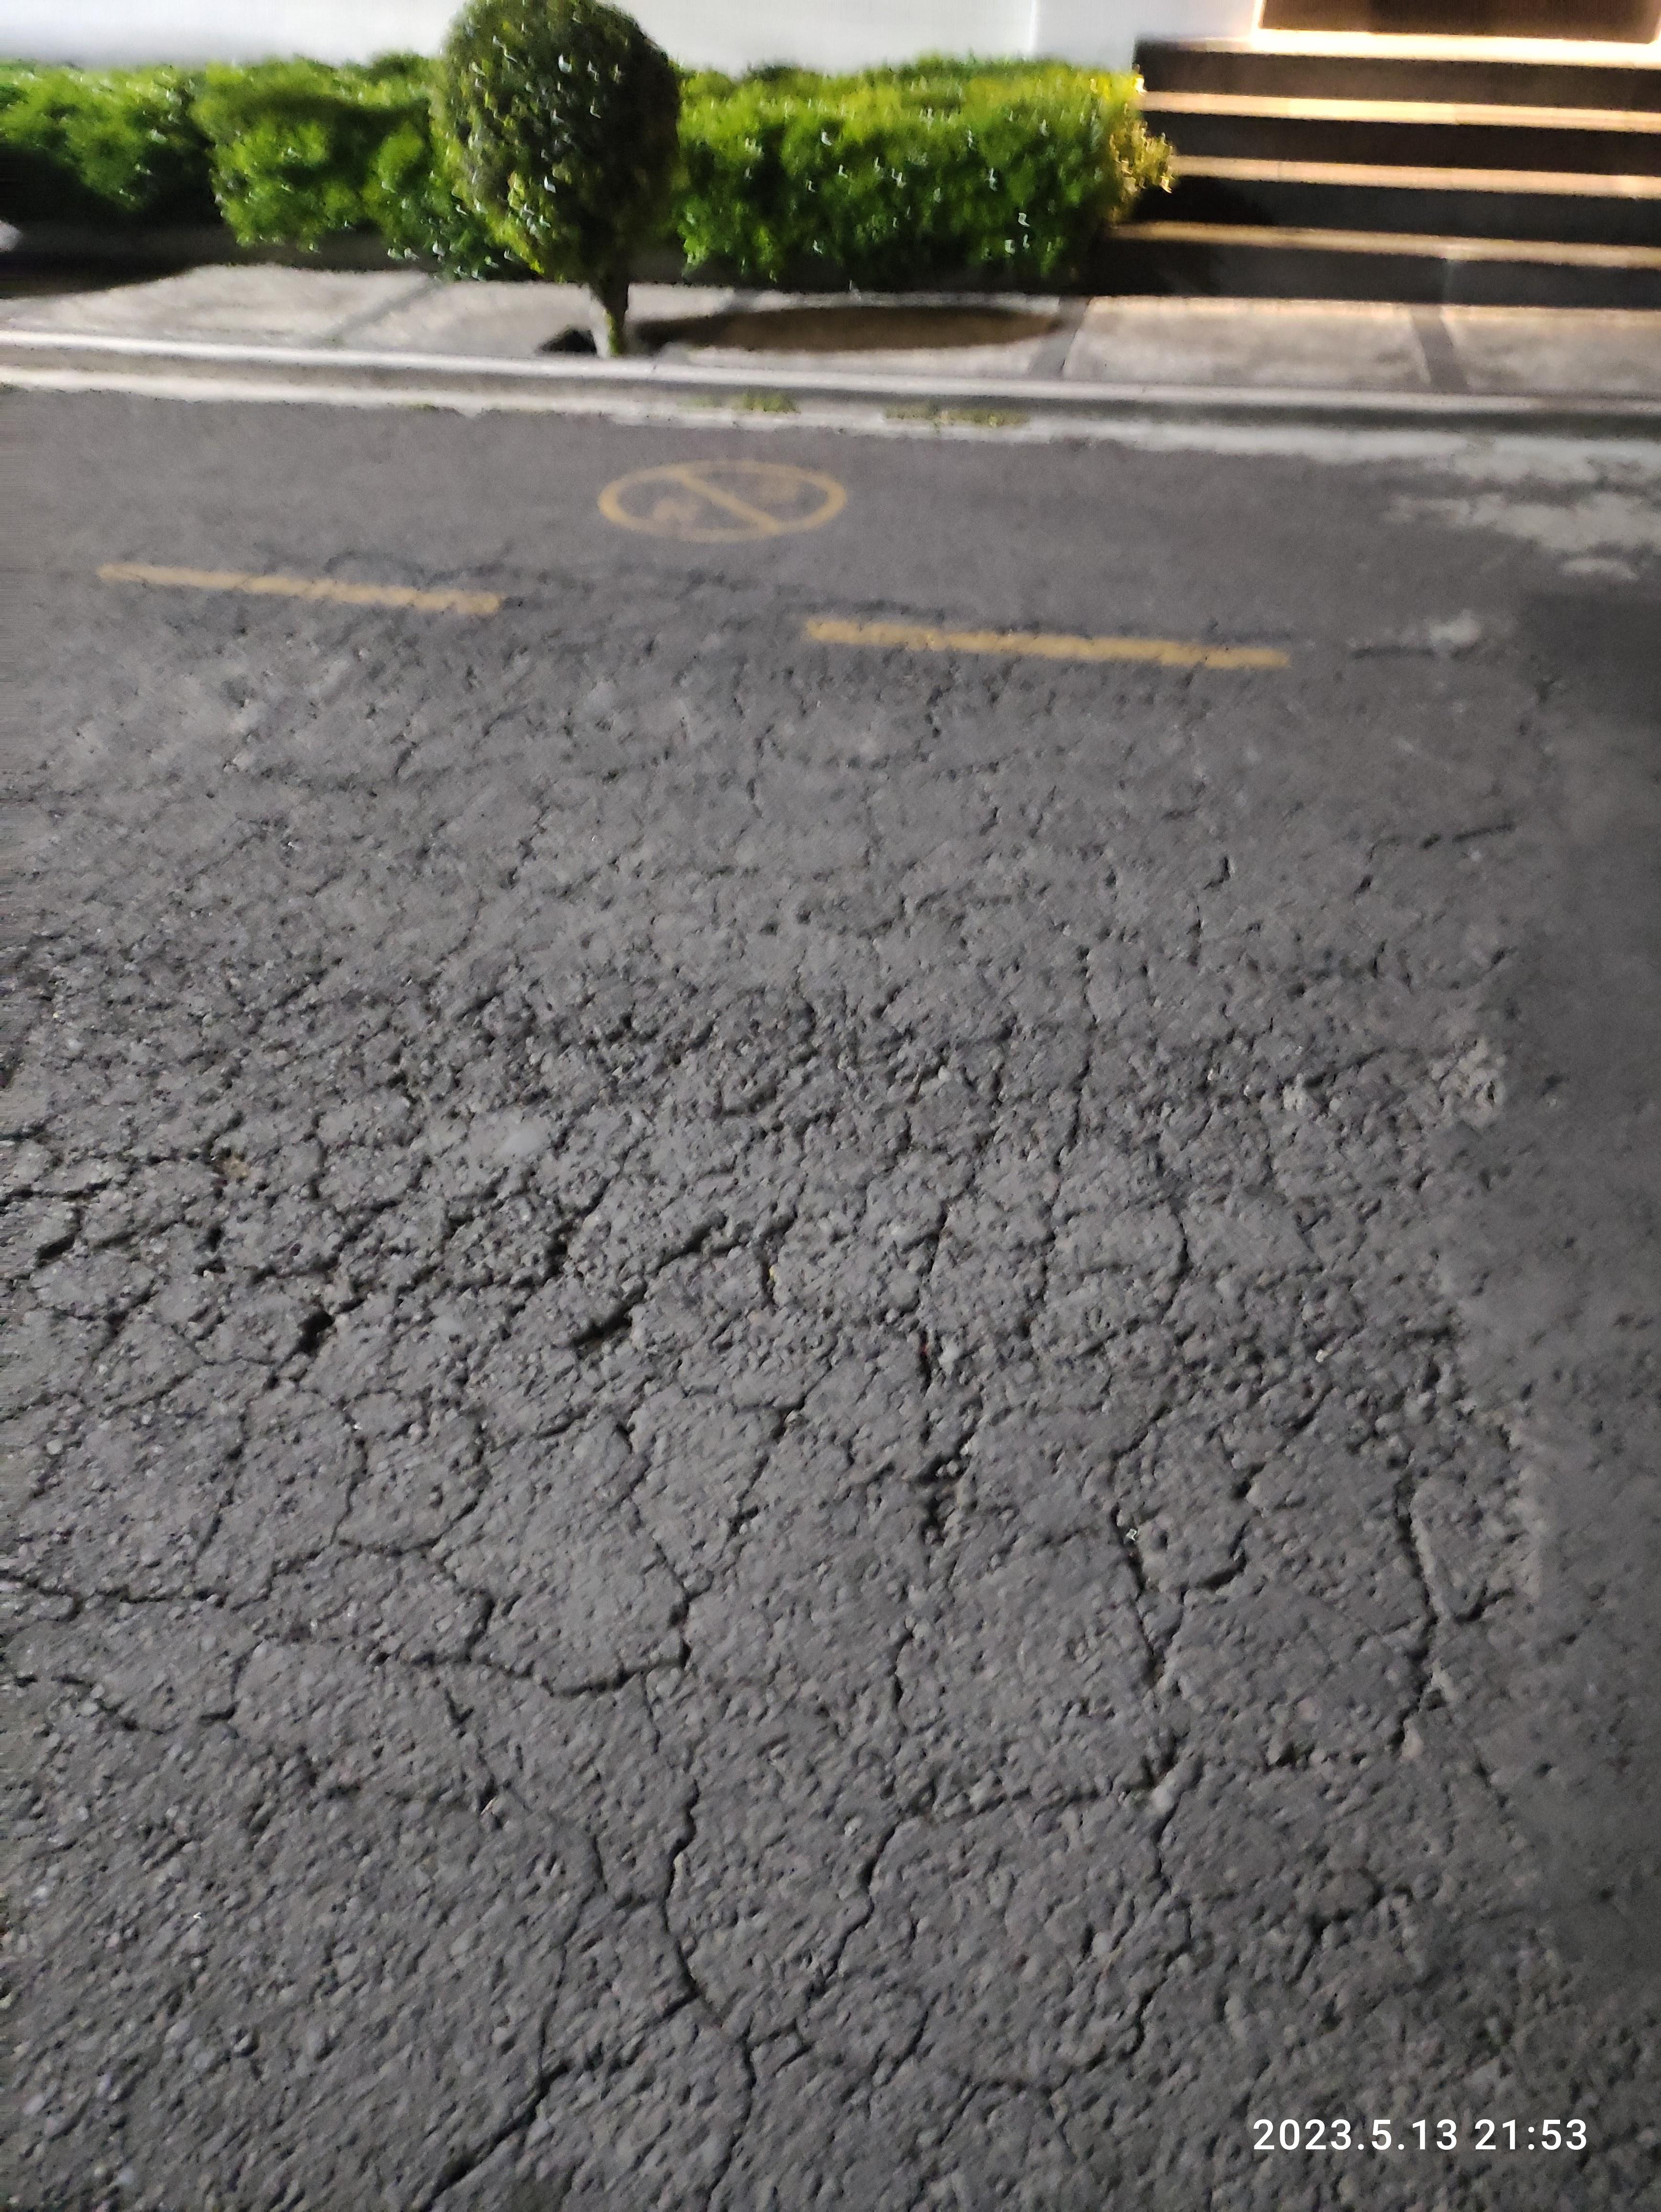alligator-crack: (35, 952, 1373, 1601), (441, 1704, 1321, 2210), (12, 637, 1087, 979)
